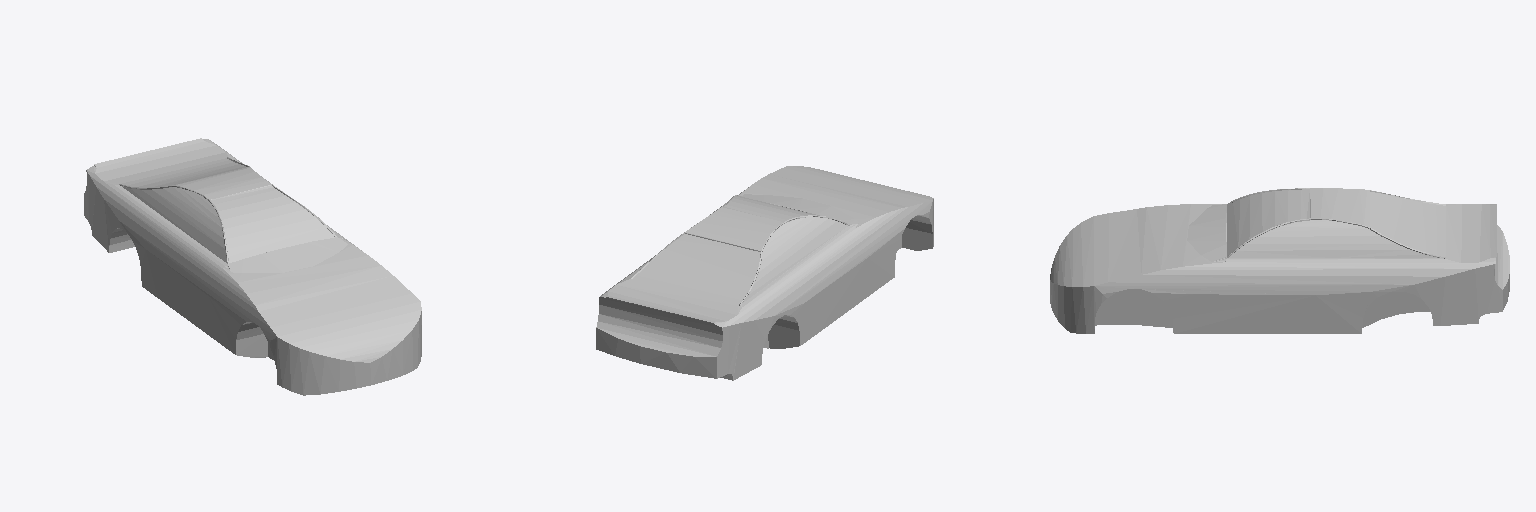
File: car copy.obj
3 views of the same model, side by side, from view 1: azimuth 30°, elevation 25°; view 2: azimuth 150°, elevation 25°; view 3: azimuth 270°, elevation 25° (orthographic).
Bounding box in the file's own units: 0.5008 × 0.3429 × 1.36.